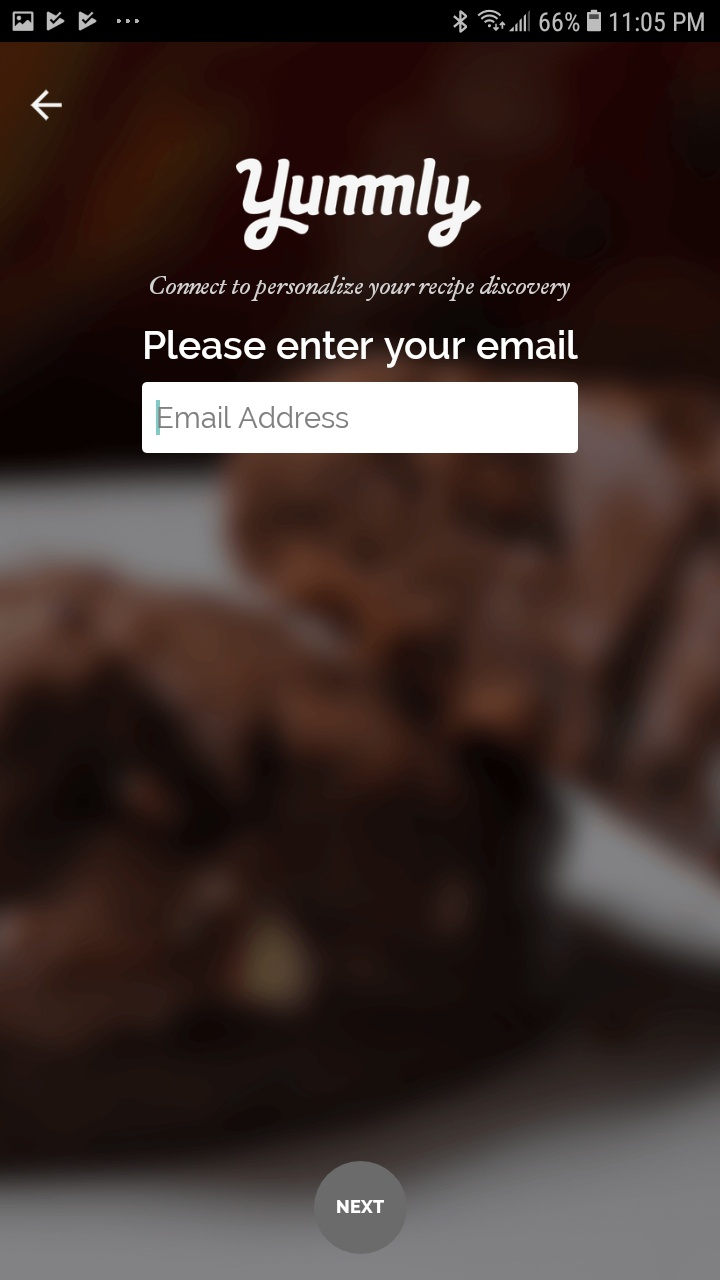BackgroundImage: (1, 43, 720, 1280)
EditText: (143, 382, 579, 454)
Icon: (31, 89, 64, 123)
Image: (235, 158, 482, 252)
Text: (145, 330, 579, 370), (150, 275, 571, 303), (159, 406, 349, 429)
TextButton: (314, 1161, 407, 1255)
UpperTaskBar: (1, 1, 720, 43)
